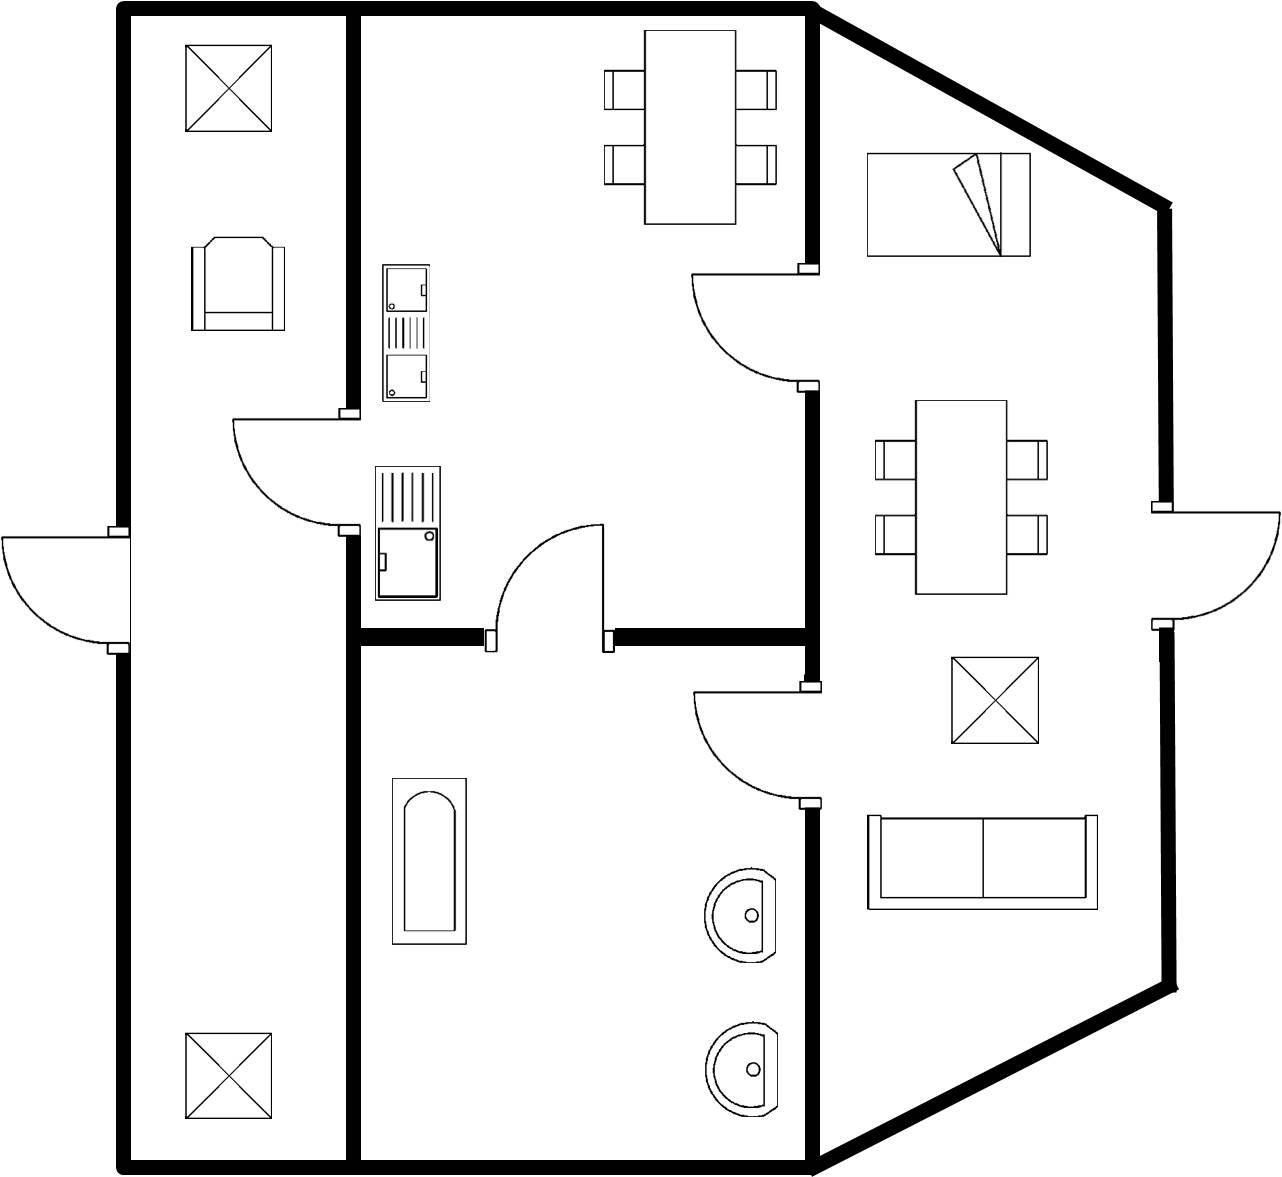sink: (371, 256, 438, 412)
